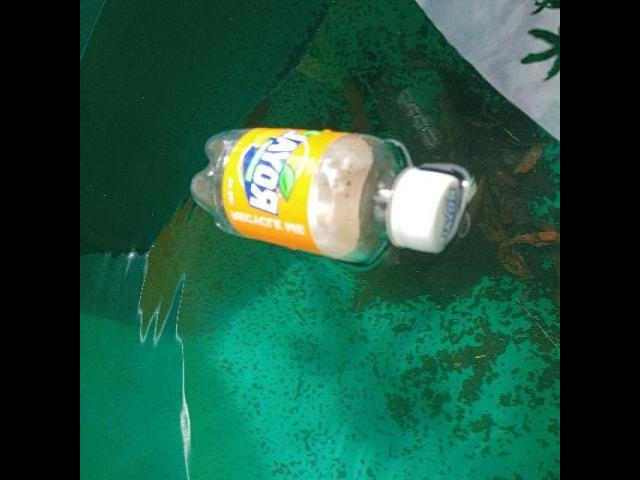Bottle: (184, 111, 476, 275)
